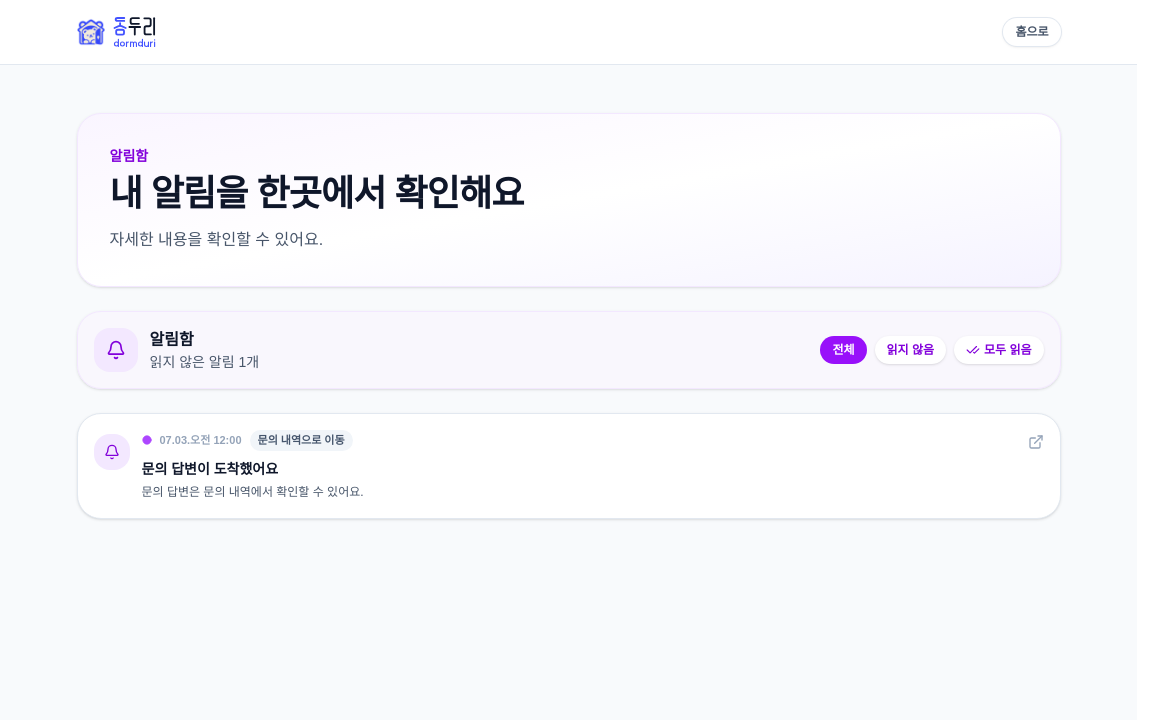
Scenario: NotificationsPageClient › 모두 읽음 action 후 unread count를 0으로 갱신한다
Click the button "모두 읽음".
click(999, 350)  # box [954,336,1044,364]
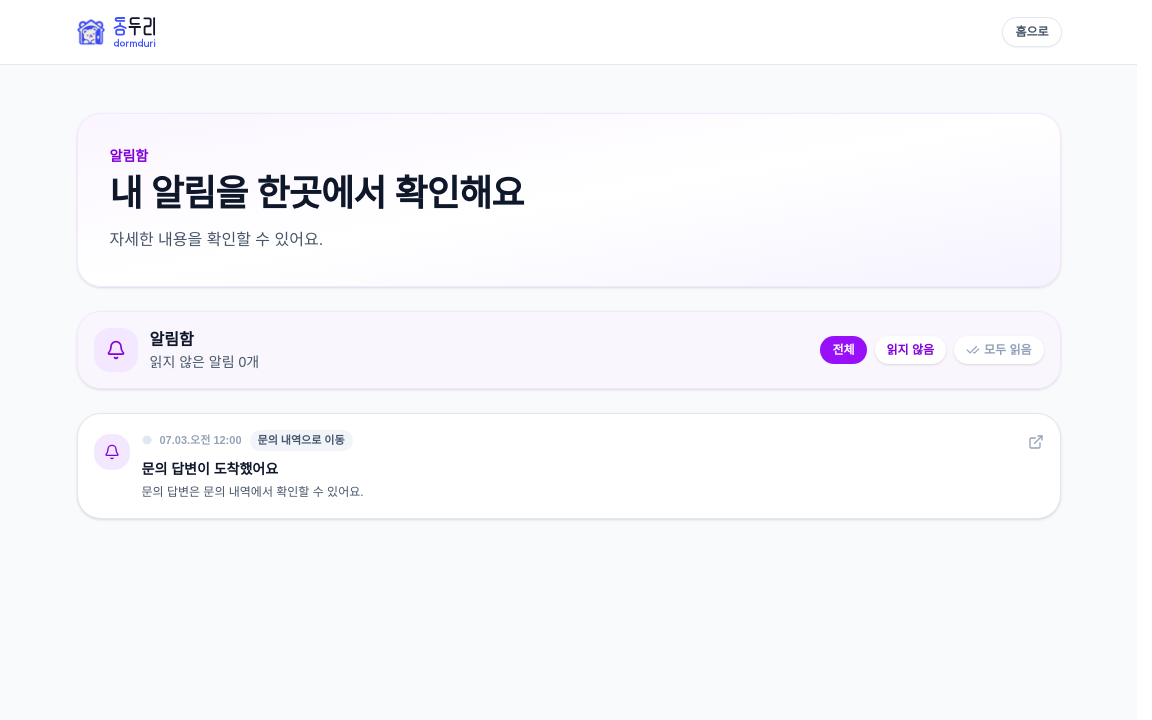
Expected: the text "읽지 않은 알림 0개" is shown, [150,352,259,372]
